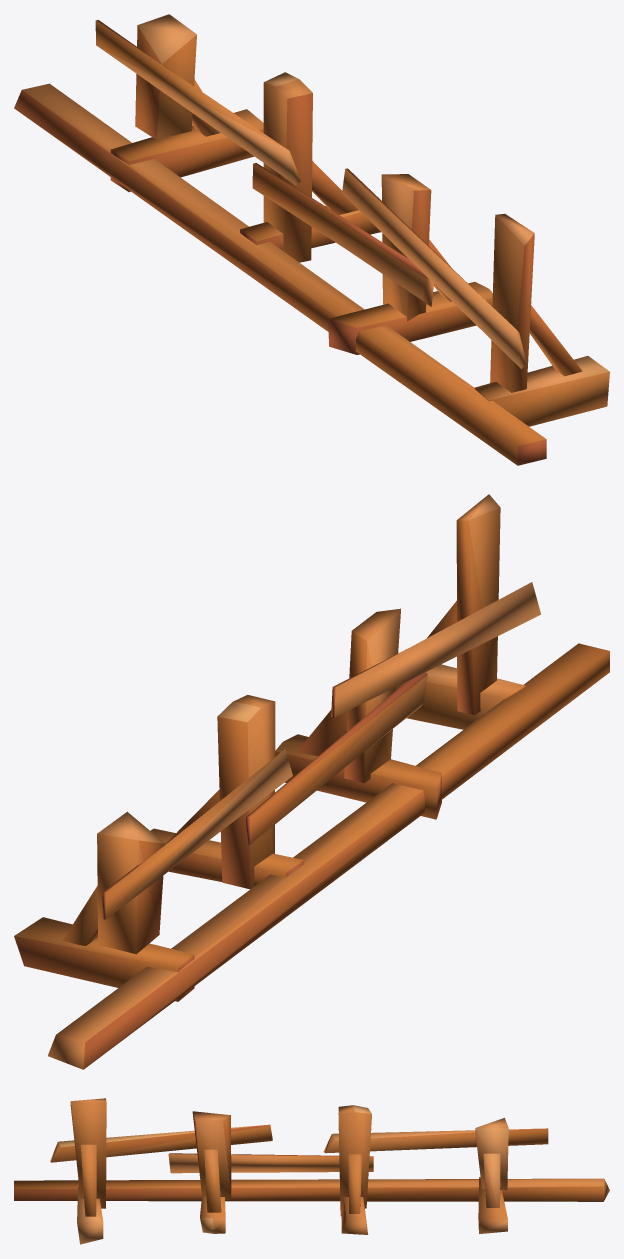
The model's file is GL-Manmade-07.fbx.
The picture shows the model from 3 angles, top to bottom: view 1: azimuth 30°, elevation 25°; view 2: azimuth 150°, elevation 25°; view 3: azimuth 270°, elevation 25°; orthographic projection. The views are drawn at different scales.
Parts seen in each view (by area): view 1: GL-Manmade-07; view 2: GL-Manmade-07; view 3: GL-Manmade-07.
Boxes of the visible parts, x1,y1,x2,y2 form: GL-Manmade-07: (14, 14, 609, 465); GL-Manmade-07: (14, 494, 609, 1069); GL-Manmade-07: (14, 1098, 609, 1244).
Bounding box in the file's own units: 0.3431 × 0.3935 × 1.77.
